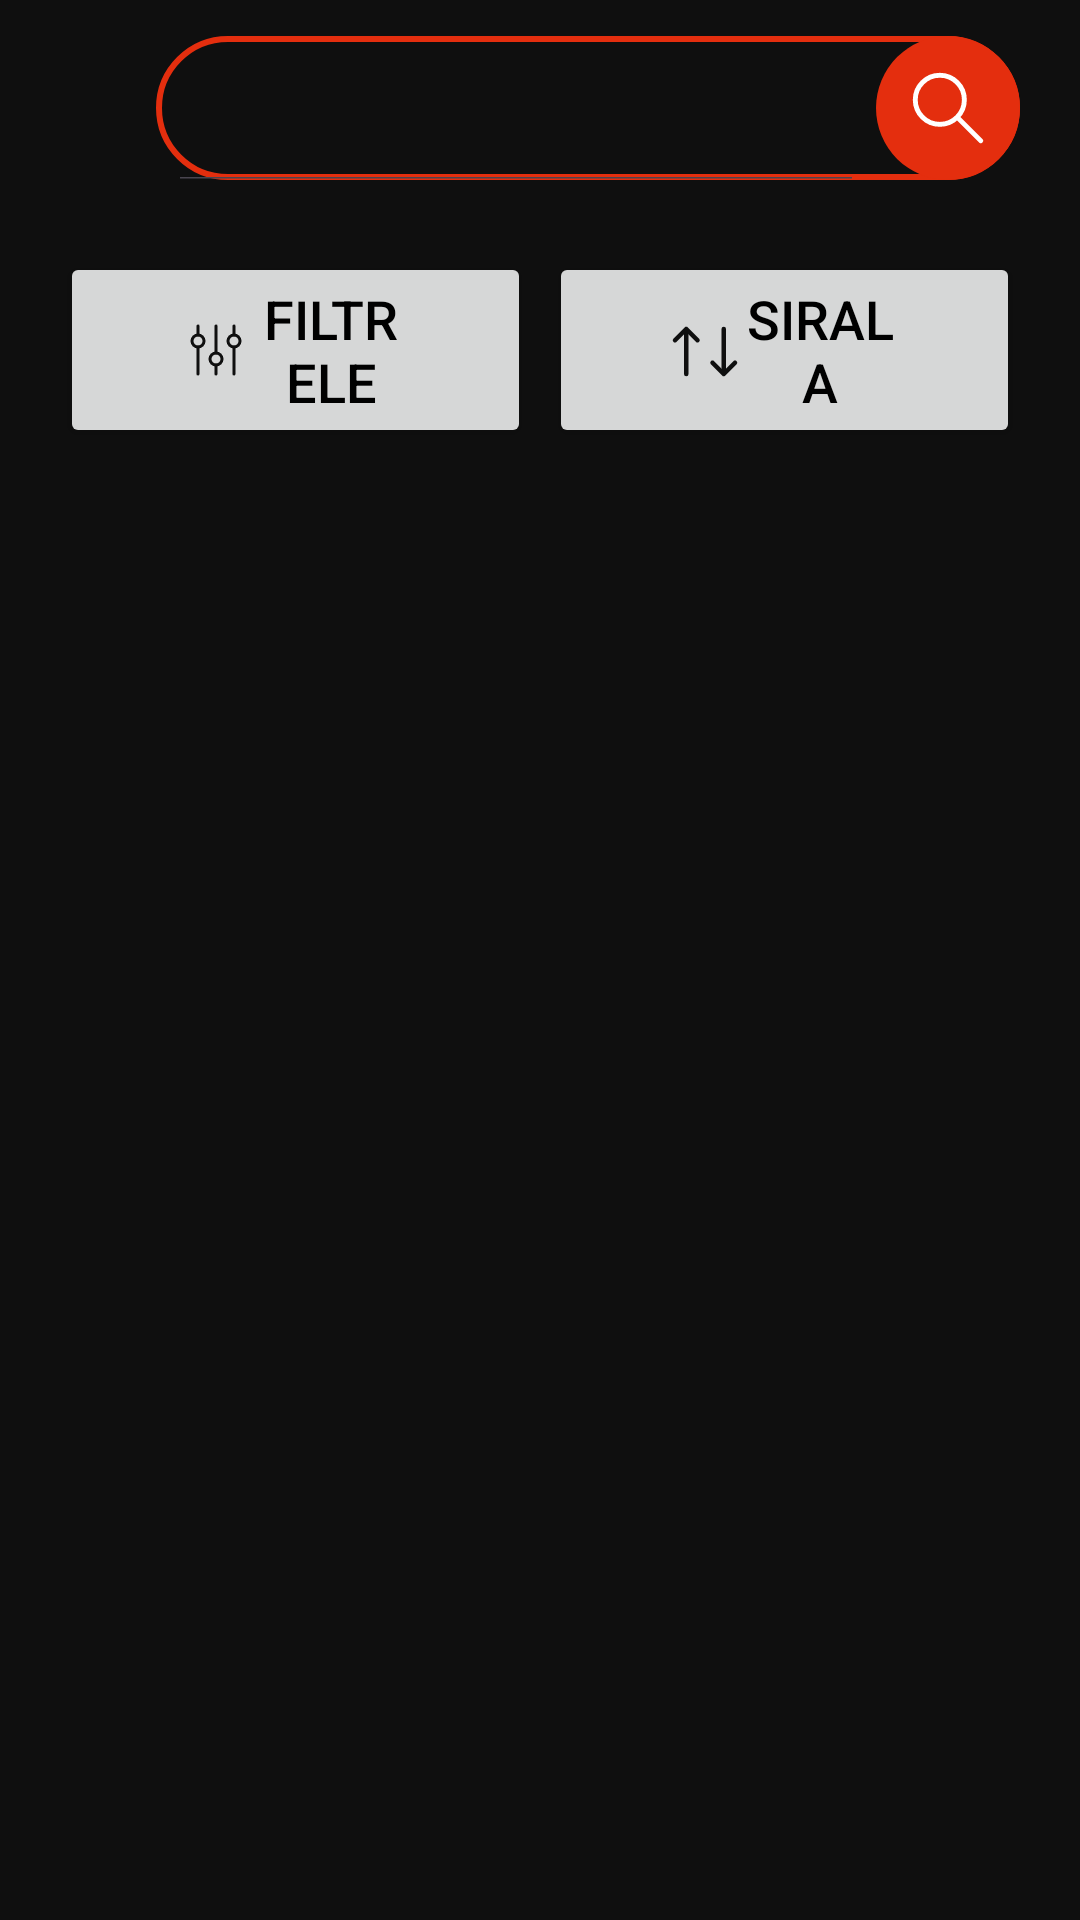

Icon bounding boxes for this 1080px×1920px phone screenshot, format (x1, y1, x2, y2):
card search: (876, 36, 1020, 180)
